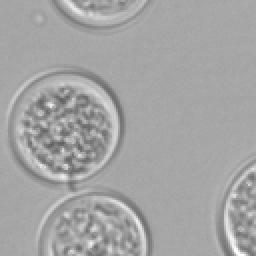picoshell: (6, 66, 122, 182), (36, 188, 150, 254), (216, 156, 254, 254), (54, 0, 148, 28)
